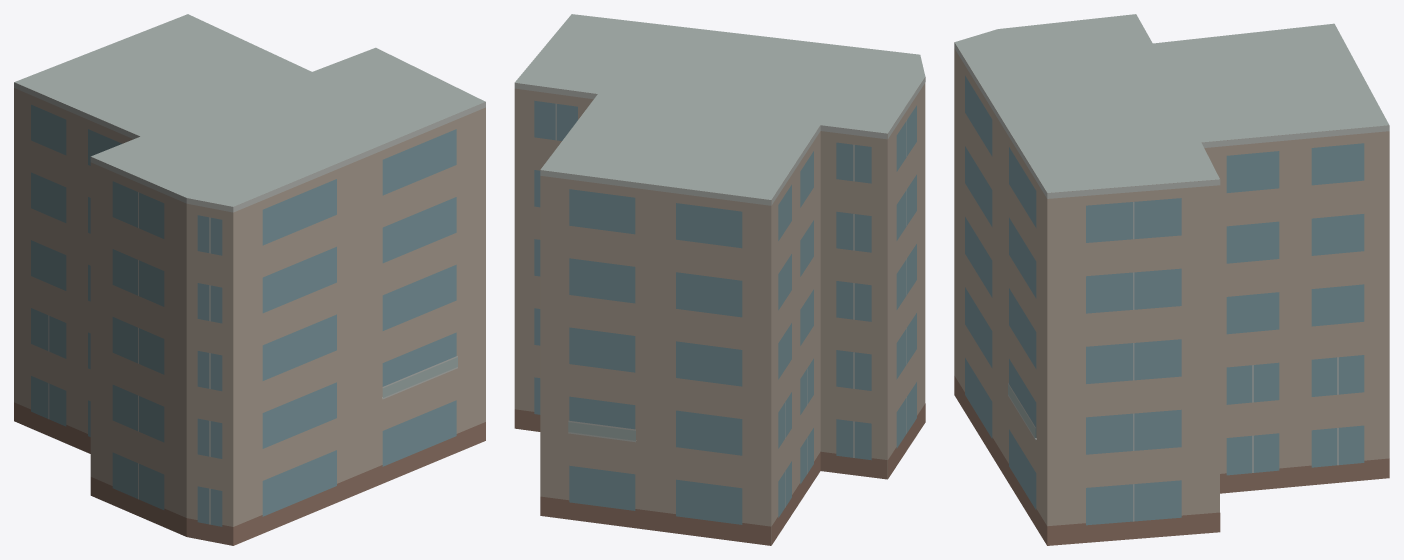
The model's file is survey-upis-32770084.glb.
3 views of the same model, side by side, from view 1: azimuth 30°, elevation 25°; view 2: azimuth 150°, elevation 25°; view 3: azimuth 270°, elevation 25° (orthographic). The views are drawn at different scales.
Visible parts, largest first — view 1: survey-upis-32770084.tmp; view 2: survey-upis-32770084.tmp; view 3: survey-upis-32770084.tmp.
Boxes of the visible parts, box(x1,y1,x2,y2) form: survey-upis-32770084.tmp: box(14, 14, 485, 545); survey-upis-32770084.tmp: box(514, 14, 925, 545); survey-upis-32770084.tmp: box(954, 14, 1389, 545).
Size of the model in its own units: 15.9 by 14.6 by 16.33.
